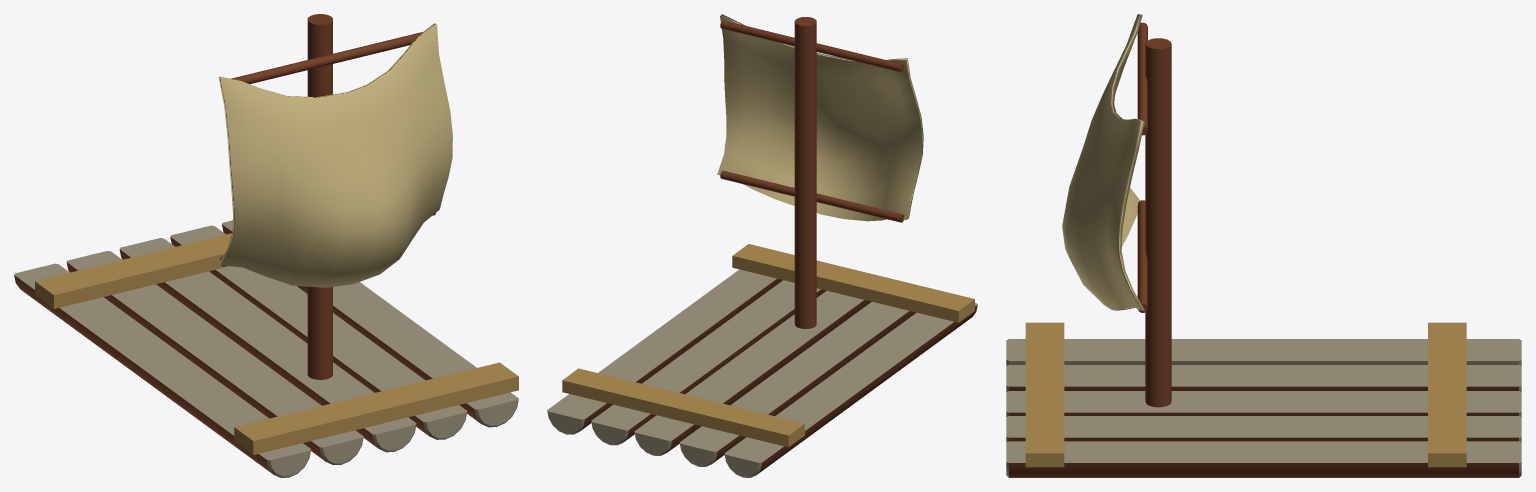
The model's file is Raft.fbx.
3 renders of one model, left to right at view 1: azimuth 30°, elevation 25°; view 2: azimuth 150°, elevation 25°; view 3: azimuth 270°, elevation 25°, orthographic. The views are drawn at different scales.
Parts seen in each view (by area): view 1: BaseRaft, SailingBoat; view 2: BaseRaft, SailingBoat; view 3: BaseRaft, SailingBoat.
Part boxes in pixels (x1,y1,x2,y2): BaseRaft: (14,220,518,477); SailingBoat: (218,14,452,379); BaseRaft: (547,244,977,477); SailingBoat: (717,14,923,328); BaseRaft: (1006,322,1521,477); SailingBoat: (1062,14,1171,407).
Size of the model in its own units: 240 by 327 by 400.
